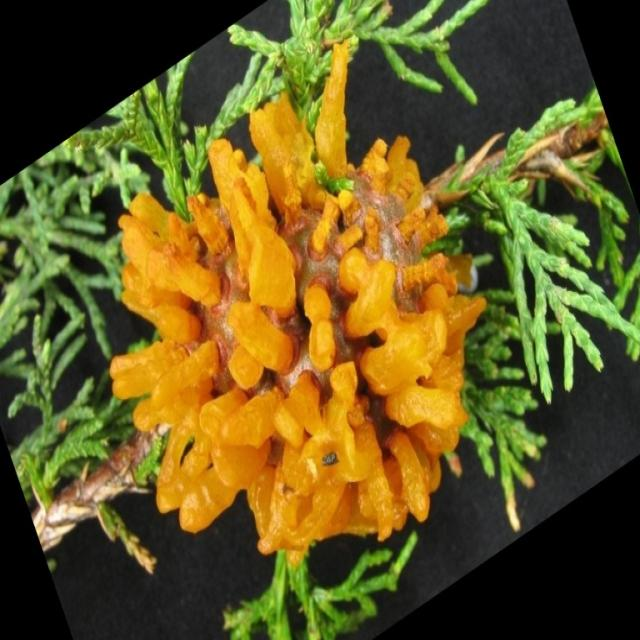Gymnosporangium_Rusts: (108, 38, 489, 566)
